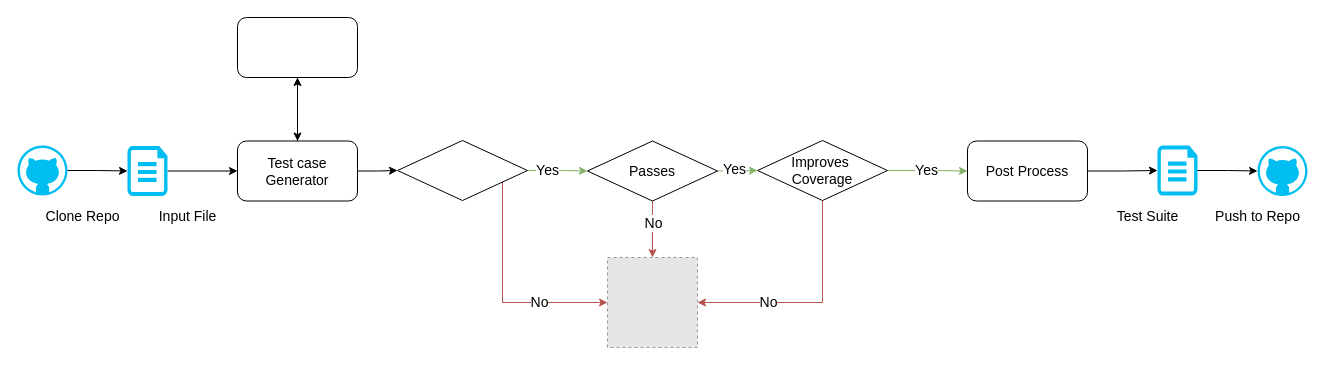
Some shapes in this 1329 by 365 pixel diagram are drawn without their labels. Grey dashed boxes stand in for pictures. Here are the shapes that lost their labels. From the top down, the centre of each, then its label:
At pixel 297 47: "LLM Model".
At pixel 462 170: "Build".
